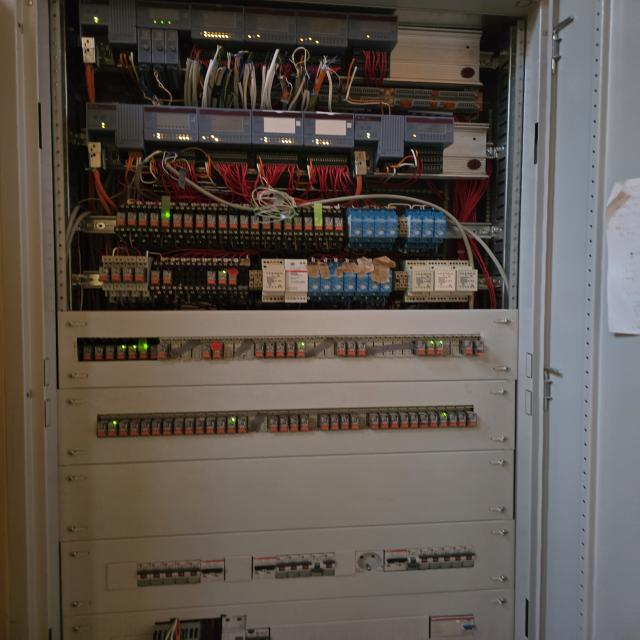Dimmer: (426, 260, 457, 302), (447, 260, 478, 302), (405, 260, 435, 302), (262, 258, 286, 303), (285, 259, 307, 303), (342, 261, 356, 296), (348, 208, 362, 242), (406, 209, 420, 243), (331, 262, 344, 296), (368, 260, 380, 296), (384, 209, 397, 242), (380, 262, 392, 297), (356, 261, 368, 296), (421, 210, 434, 242), (308, 262, 320, 296), (362, 209, 374, 242), (320, 263, 332, 296), (434, 211, 446, 243), (374, 209, 385, 242)
FI: (428, 616, 475, 638)
FI_Sicherungskombi: (221, 616, 245, 640)
Leitungsschutzschalter: (137, 562, 151, 586), (188, 560, 201, 583), (252, 556, 265, 579), (275, 555, 288, 578), (151, 562, 163, 586), (163, 561, 175, 585), (176, 560, 188, 584), (300, 553, 312, 577), (213, 558, 225, 581), (406, 549, 419, 570), (201, 559, 213, 581), (288, 555, 300, 577), (312, 553, 324, 575), (324, 553, 336, 575), (418, 548, 430, 569), (441, 547, 453, 568), (265, 556, 276, 578), (385, 550, 396, 571), (430, 548, 441, 569), (396, 549, 406, 571), (453, 547, 464, 567), (464, 546, 474, 567), (245, 629, 258, 640), (259, 628, 269, 640)
Relais: (474, 340, 485, 356), (122, 266, 132, 283), (158, 344, 169, 359), (414, 341, 425, 356), (461, 340, 472, 355), (111, 266, 121, 282), (135, 266, 145, 282), (227, 270, 237, 286), (265, 342, 275, 358), (320, 414, 330, 430), (369, 414, 379, 430), (172, 213, 182, 228), (183, 214, 193, 229), (151, 271, 161, 286), (268, 416, 278, 431), (467, 412, 477, 427), (139, 345, 148, 361), (255, 342, 264, 358), (330, 414, 339, 430), (350, 414, 359, 430), (149, 213, 159, 227), (218, 215, 228, 229), (334, 217, 344, 231), (99, 267, 109, 281), (141, 422, 151, 436), (300, 416, 310, 430), (419, 414, 429, 428), (280, 415, 288, 432), (116, 212, 125, 227), (161, 213, 170, 228), (195, 214, 204, 229), (163, 270, 172, 285), (213, 343, 222, 358), (285, 342, 294, 357), (296, 342, 305, 357), (338, 341, 347, 356), (130, 422, 139, 437), (185, 420, 194, 435), (238, 417, 247, 432), (289, 416, 298, 431), (389, 414, 398, 429), (117, 346, 127, 359), (162, 422, 172, 435), (138, 212, 147, 226), (207, 214, 216, 228), (229, 215, 238, 229), (240, 215, 249, 229), (251, 216, 260, 230), (83, 346, 92, 360), (95, 346, 104, 360), (358, 342, 367, 356), (119, 422, 128, 436), (174, 421, 183, 435), (206, 420, 215, 434), (217, 419, 226, 433), (400, 414, 409, 428), (273, 216, 281, 231), (276, 342, 284, 357), (436, 340, 444, 355), (98, 422, 106, 437), (341, 415, 349, 430), (381, 414, 389, 429), (410, 413, 418, 428), (283, 217, 292, 230), (304, 217, 313, 230), (348, 342, 357, 355), (195, 420, 204, 433), (429, 414, 438, 427), (128, 212, 136, 226), (262, 216, 270, 230), (208, 271, 216, 285), (106, 346, 114, 360), (128, 346, 136, 360), (203, 344, 211, 358), (426, 341, 434, 355), (108, 422, 116, 436), (152, 421, 160, 435), (228, 419, 236, 433), (458, 413, 466, 427), (294, 217, 302, 230), (315, 217, 323, 230), (325, 217, 333, 230), (219, 271, 226, 285), (440, 414, 448, 426), (449, 414, 457, 426), (150, 346, 157, 358)
SPS-System -Steuerungskomponente-: (190, 3, 244, 42), (144, 104, 198, 143), (244, 6, 297, 44), (199, 106, 251, 144), (297, 10, 348, 48), (304, 111, 354, 148), (253, 109, 303, 145), (86, 100, 141, 132), (348, 12, 399, 42), (137, 2, 191, 30), (406, 114, 453, 144), (356, 112, 404, 141), (80, 1, 135, 26)
Verbinder: (248, 270, 262, 290), (394, 271, 407, 291), (397, 217, 408, 237)
